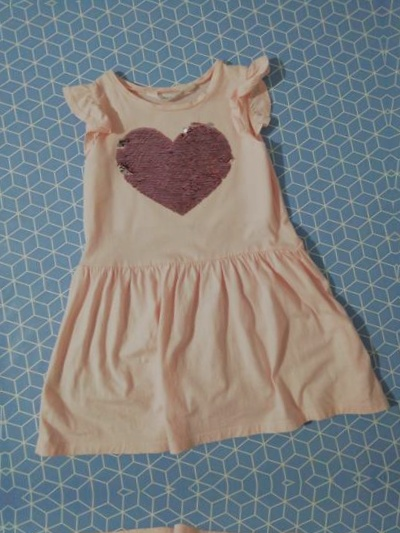Dress: (11, 37, 382, 471), (38, 504, 400, 533), (0, 527, 3, 533)
